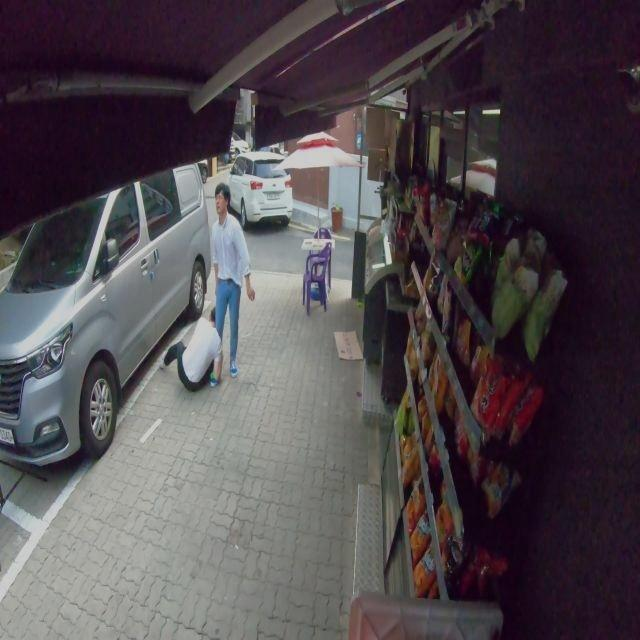fight: (156, 186, 256, 398)
